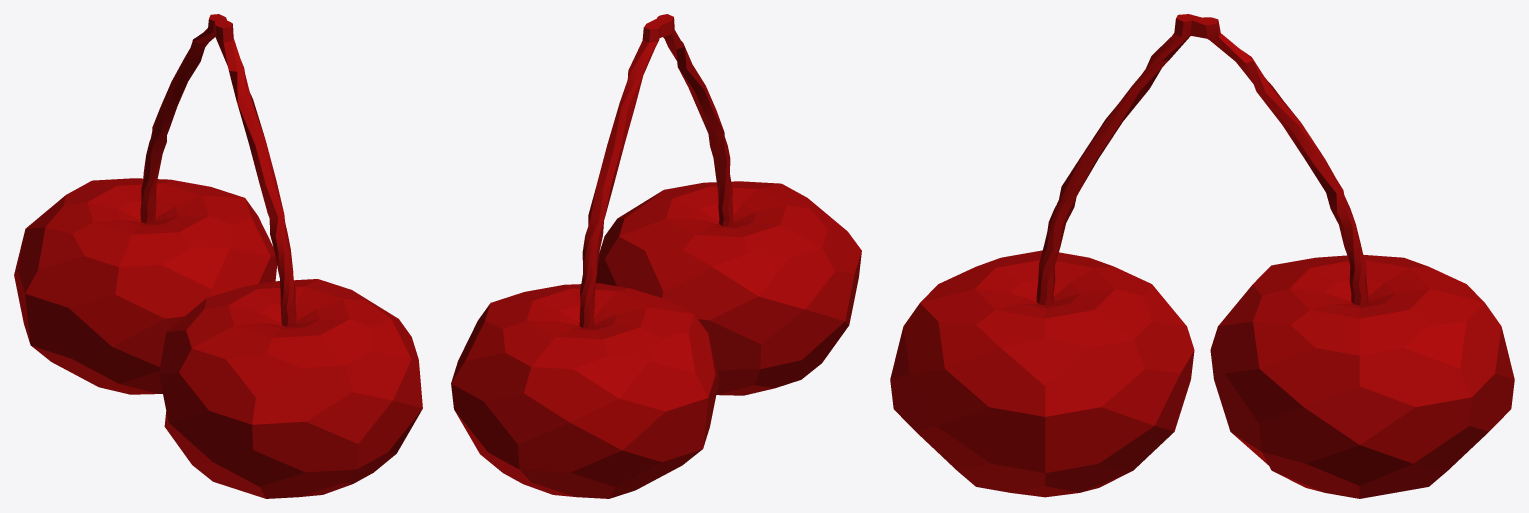
The model's file is cherry.fbx.
The picture shows the model from 3 angles, left to right: view 1: azimuth 30°, elevation 25°; view 2: azimuth 150°, elevation 25°; view 3: azimuth 270°, elevation 25°; orthographic projection. The views are drawn at different scales.
Visible parts, largest first — view 1: cherry; view 2: cherry; view 3: cherry.
Part boxes in pixels (x1=…): cherry: x1=14, y1=14, x2=422, y2=498; cherry: x1=451, y1=14, x2=861, y2=498; cherry: x1=890, y1=14, x2=1514, y2=498.
Size of the model in its own units: 2.18 by 3.52 by 4.3.
